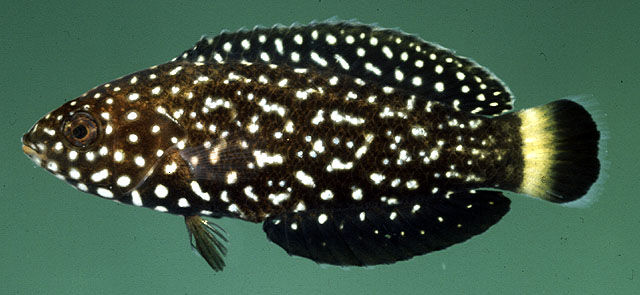fish: (23, 19, 604, 272)
